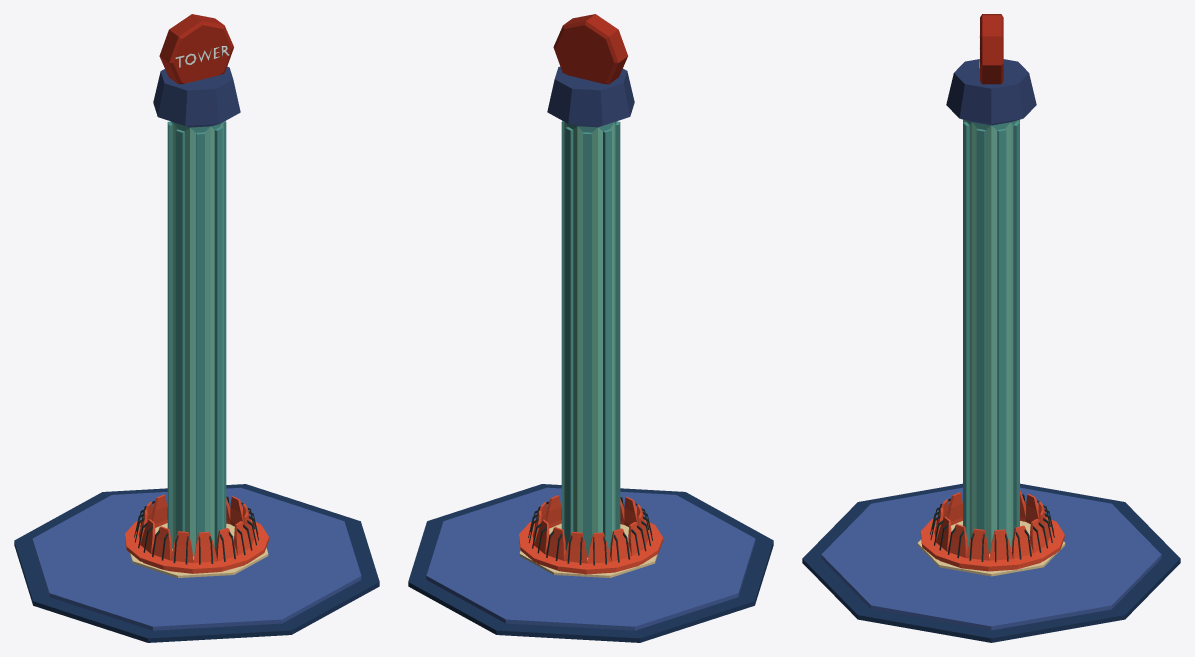
Rendered from Tower_Ride.fbx.
3 views of the same model, side by side, from view 1: azimuth 30°, elevation 25°; view 2: azimuth 150°, elevation 25°; view 3: azimuth 270°, elevation 25° (orthographic).
Visible parts, largest first — view 1: Tower_Ride, Tower_Ride_Seats; view 2: Tower_Ride, Tower_Ride_Seats; view 3: Tower_Ride, Tower_Ride_Seats.
Part boxes in pixels (x1,y1,x2,y2): Tower_Ride: (14, 14, 379, 642); Tower_Ride_Seats: (125, 494, 268, 577); Tower_Ride: (408, 14, 773, 642); Tower_Ride_Seats: (519, 495, 662, 577); Tower_Ride: (802, 14, 1180, 642); Tower_Ride_Seats: (917, 491, 1065, 576).
Size of the model in its own units: 760 by 1215 by 760.
